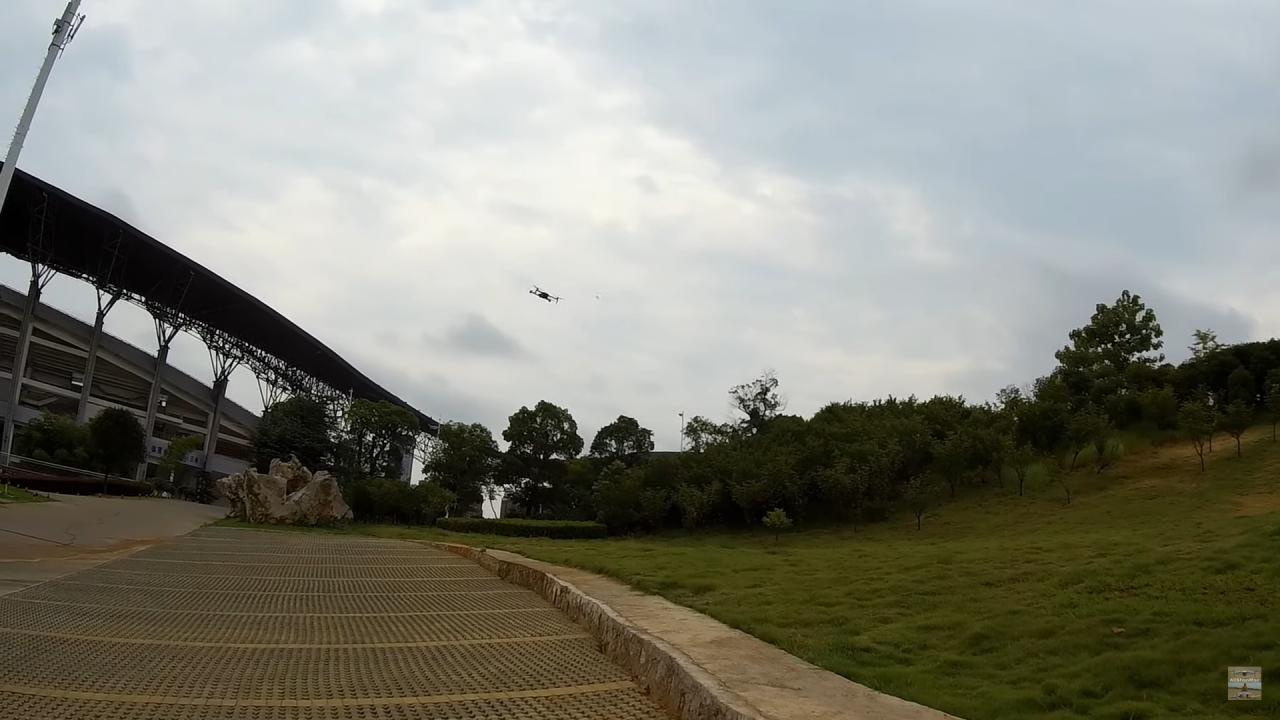Drone: (521, 280, 568, 310)
